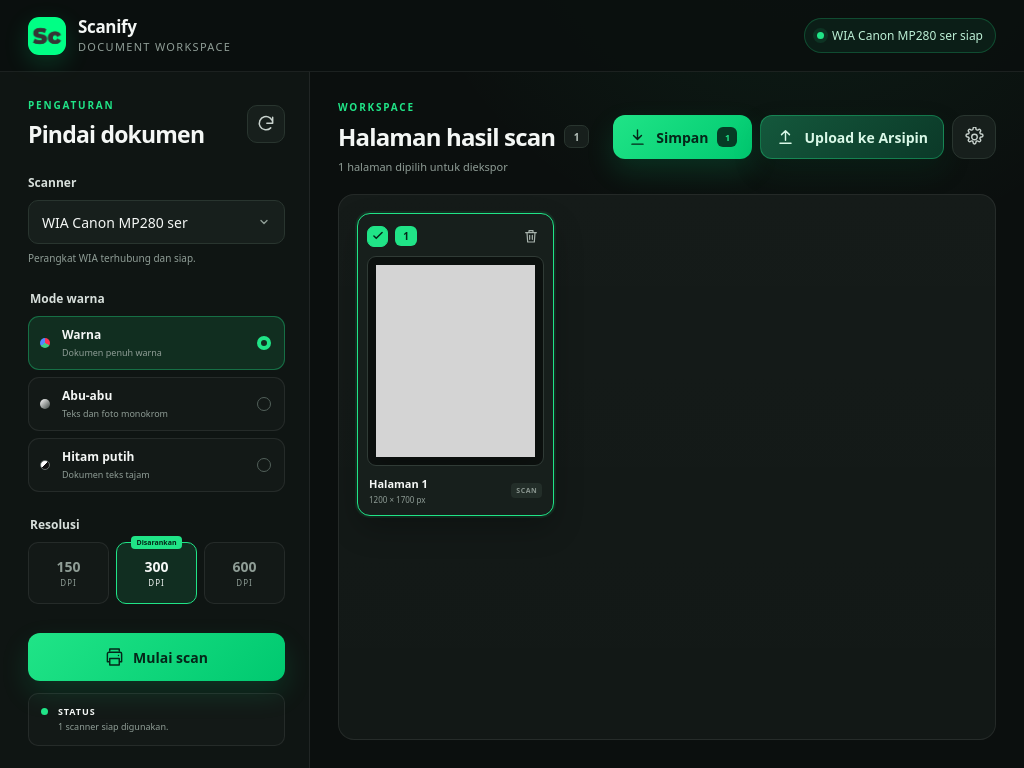
Scenario: Scanify workspace › mengunggah halaman terpilih dan menampilkan job Arsipin
The width and height of the screenshot is (1024, 768).
Click the button "Upload ke Arsipin": click(852, 137) [760,115,944,159]
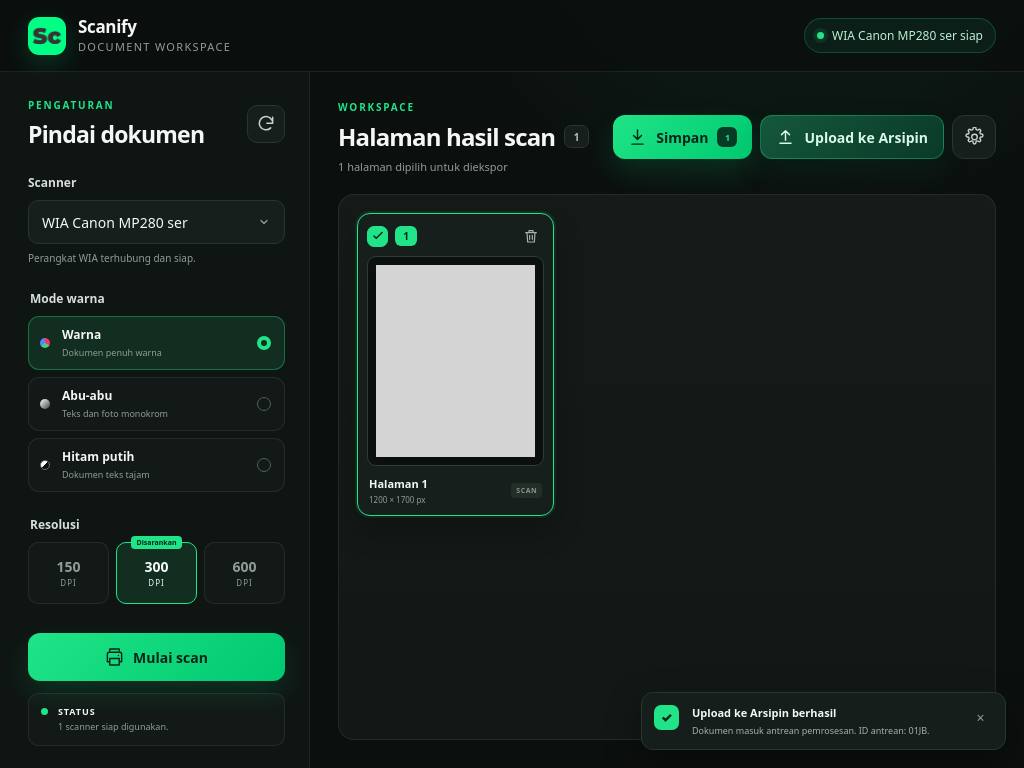
Check: the text "Upload ke Arsipin berhasil" is shown, box [692,705,836,720]
Check: the text "Dokumen masuk antrean pemrosesan. ID antrean: 01JB." is shown, box [692,724,958,737]
